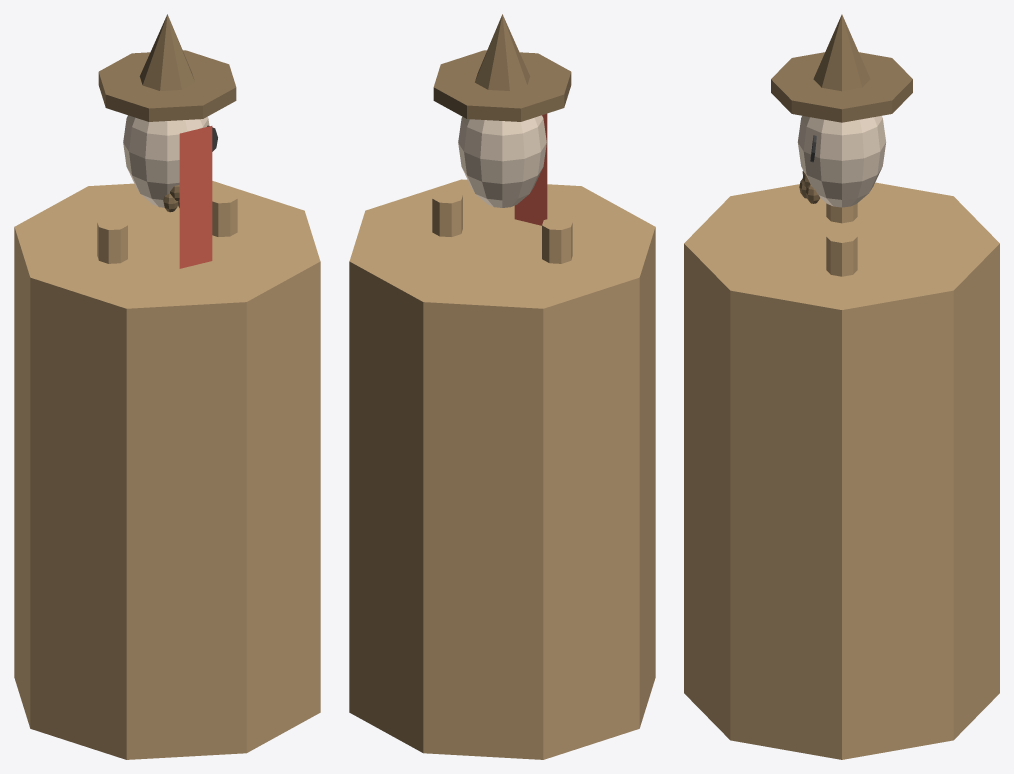
Rendered from pirata.glb.
3 views of the same model, side by side, from view 1: azimuth 30°, elevation 25°; view 2: azimuth 150°, elevation 25°; view 3: azimuth 270°, elevation 25° (orthographic).
Visible parts, largest first — view 1: Body, HatBrim, InnerCoat, Head, HatTop, ArmL, ArmR; view 2: Body, Head, HatBrim, HatTop, ArmL, ArmR, InnerCoat; view 3: Body, Head, HatBrim, HatTop, ArmR.
Boxes of the visible parts, x1,y1,x2,y2 form: Body: [14, 181, 320, 759]; HatBrim: [98, 50, 236, 121]; InnerCoat: [179, 126, 212, 268]; Head: [123, 115, 209, 207]; HatTop: [139, 14, 194, 90]; ArmL: [97, 217, 127, 263]; ArmR: [212, 190, 237, 236]; Body: [349, 179, 655, 759]; Head: [458, 115, 546, 207]; HatBrim: [433, 50, 571, 121]; HatTop: [475, 14, 530, 90]; ArmL: [542, 217, 572, 263]; ArmR: [432, 190, 462, 236]; InnerCoat: [514, 113, 547, 225]; Body: [684, 182, 999, 759]; Head: [797, 116, 886, 207]; HatBrim: [771, 52, 912, 122]; HatTop: [813, 14, 870, 91]; ArmR: [826, 229, 857, 276].
Size of the model in its own units: 0.7 by 1.66 by 0.7.
